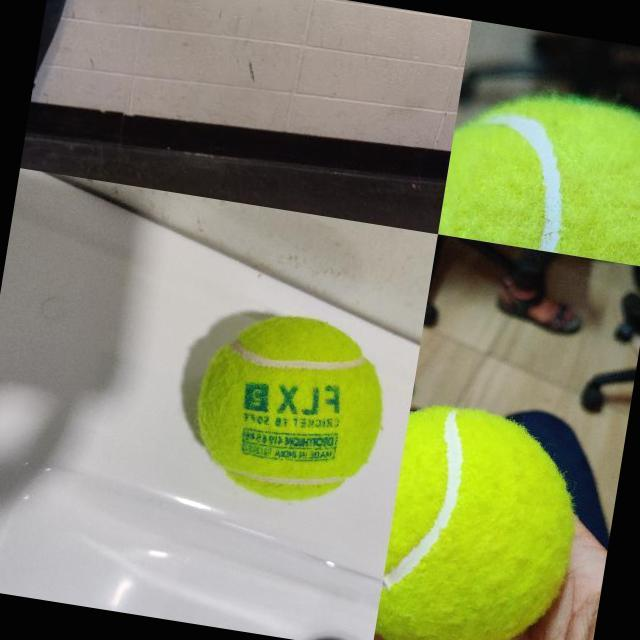Tennis Ball: (373, 400, 588, 640), (184, 303, 399, 515), (439, 82, 640, 267)
